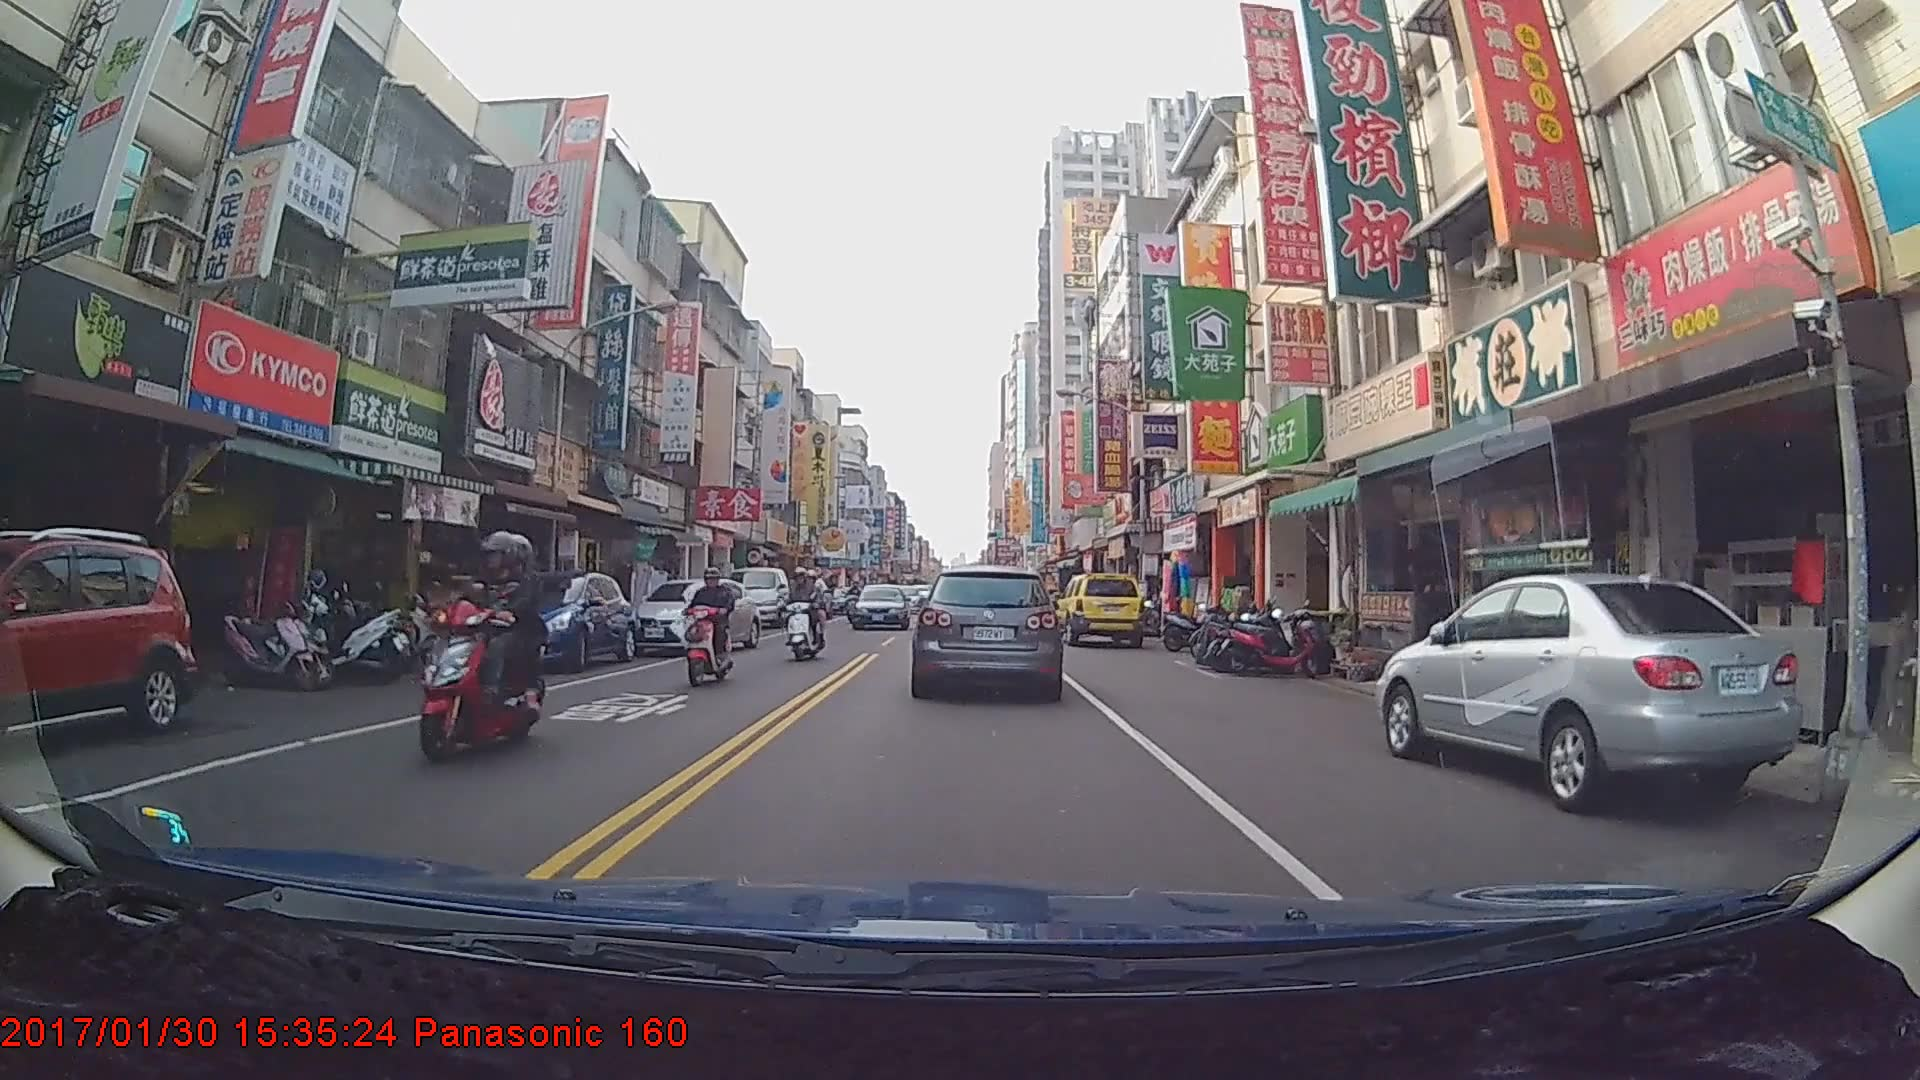rider: (416, 537, 547, 762), (682, 569, 739, 691), (777, 568, 829, 663)
vehicle: (1372, 570, 1803, 809), (0, 531, 195, 750), (910, 563, 1060, 699), (464, 569, 638, 674), (624, 576, 759, 655), (1054, 571, 1145, 646), (725, 565, 789, 627), (846, 582, 912, 630)
